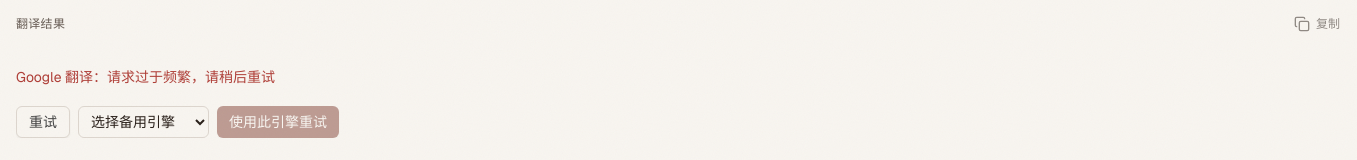
Scenario: desk translation recovery › shows the engine failure and retries unchanged text
Expected: the message shows "请求过于频繁", left=16, top=68, right=275, bottom=86
Expected: the message shows "Google 翻译", left=16, top=68, right=275, bottom=86
Step 1. Click the button "重试" → (43, 122), box left=16, top=106, right=70, bottom=138
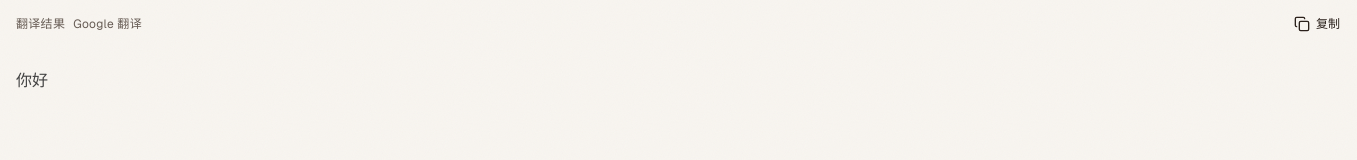
Expected: the text "你好" is shown, left=16, top=70, right=48, bottom=91
